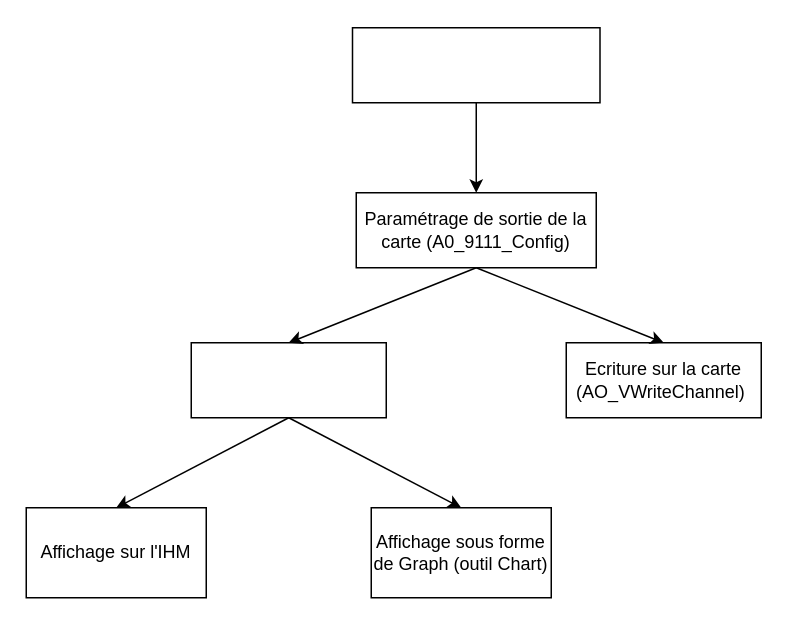
This 788x624 diagram has some shape labels left out. Each missing label, with the box of its shape:
Enregistrement de la carte 9111 (Register_Card): (351, 26, 600, 103)
Lecture de la tension (AI_VReadChannel): (190, 341, 386, 418)
